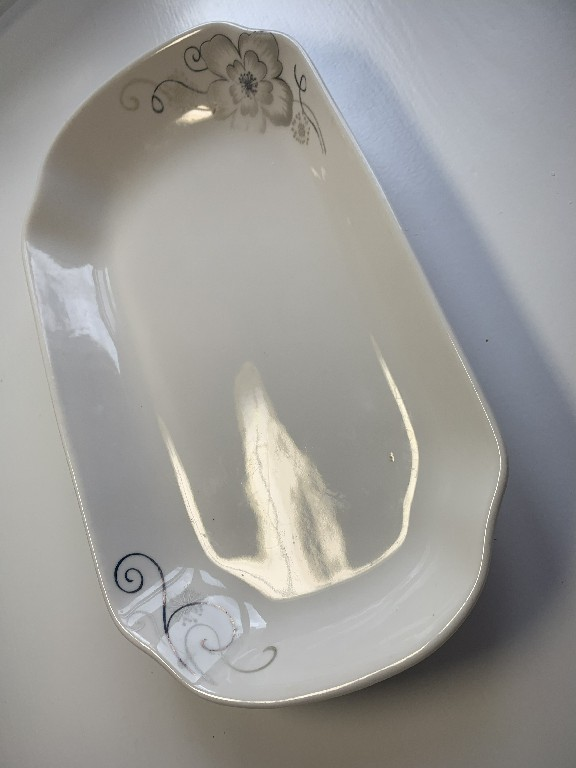ceramics: (24, 18, 512, 713)
